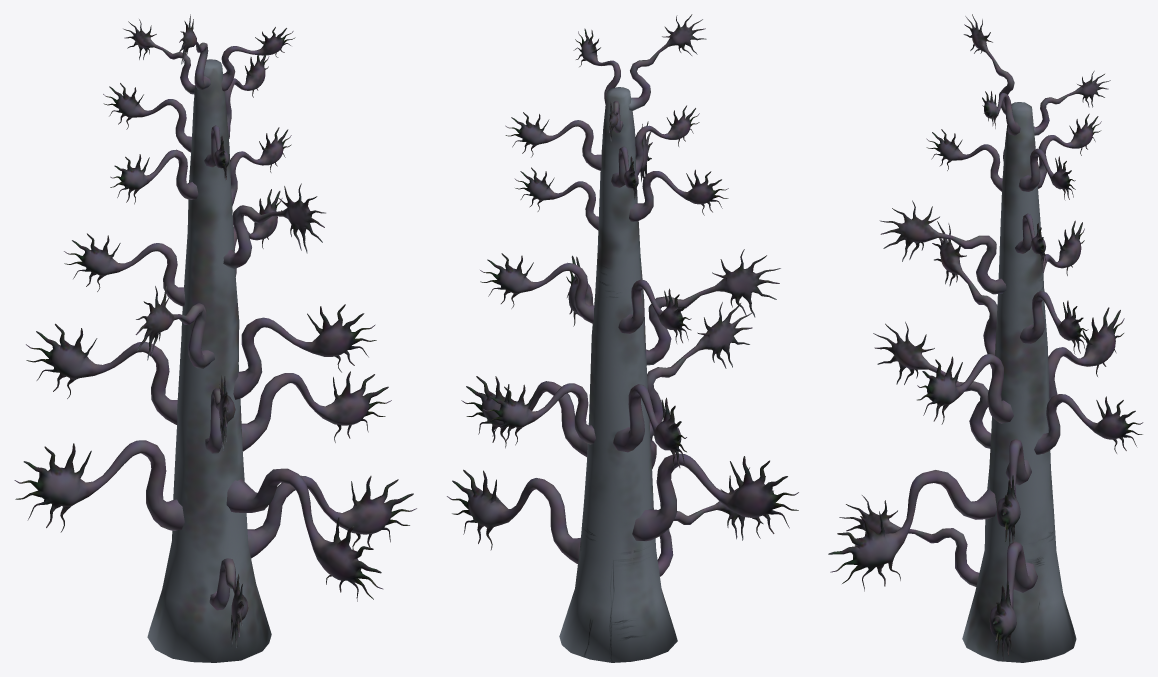
Rendered from Tree.FBX.
3 views of the same model, side by side, from view 1: azimuth 30°, elevation 25°; view 2: azimuth 150°, elevation 25°; view 3: azimuth 270°, elevation 25° (orthographic). The views are drawn at different scales.
Parts seen in each view (by area): view 1: Body, Hand-1, Hand-015, Hand-020, Hand-012, Hand-006, Hand-009, Hand-017, Hand-003, Hand-2, Hand-008, Hand-021 (+9 smaller); view 2: Body, Hand-1, Hand-020, Hand-2, Hand-012, Hand-010, Hand-006, Hand-016, Hand-014, Hand-003, Hand-008, Hand-019 (+6 smaller); view 3: Body, Hand-015, Hand-009, Hand-017, Hand-020, Hand-010, Hand-016, Hand-021, Hand-012, Hand-006, Hand-2, Hand-014 (+8 smaller).
Part boxes in pixels (x1,y1,x2,y2): Body: (147,59,271,662); Hand-1: (14,440,184,532); Hand-015: (226,468,383,601); Hand-020: (247,475,416,558); Hand-012: (26,323,177,424); Hand-006: (241,371,391,451); Hand-009: (233,304,376,399); Hand-017: (223,183,325,268); Hand-003: (64,233,185,306); Hand-2: (135,286,214,368); Hand-008: (110,149,198,204); Hand-021: (209,558,248,648); Body: (559,87,677,662); Hand-1: (632,453,798,541); Hand-020: (447,469,580,563); Hand-2: (646,249,780,365); Hand-012: (613,384,686,469); Hand-010: (483,383,595,445); Hand-006: (461,376,587,456); Hand-016: (647,302,752,438); Hand-014: (480,253,594,323); Hand-003: (618,279,691,343); Hand-008: (629,169,728,221); Hand-019: (505,112,601,170); Body: (962,102,1076,662); Hand-015: (828,470,996,591); Hand-009: (917,354,1013,424); Hand-017: (879,200,1006,294); Hand-020: (989,541,1037,660); Hand-010: (1034,394,1143,454); Hand-016: (873,321,991,448); Hand-021: (839,495,979,586); Hand-012: (1048,307,1124,400); Hand-006: (997,439,1031,548); Hand-2: (932,221,997,355); Hand-014: (1020,291,1088,354).
Size of the model in its own units: 1.25 by 2.01 by 0.9519.
